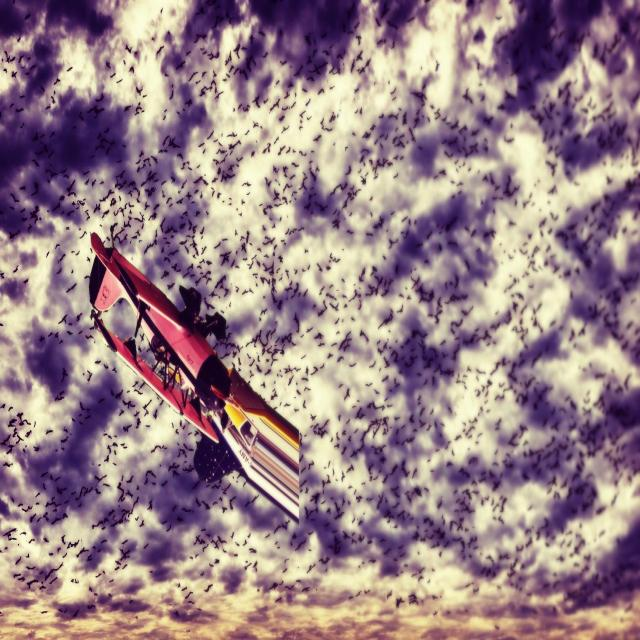airplane: (87, 231, 300, 525)
